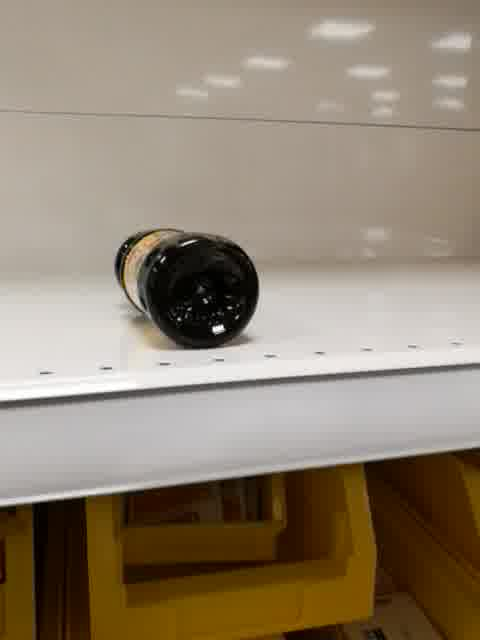cookingoil: (112, 226, 262, 351)
